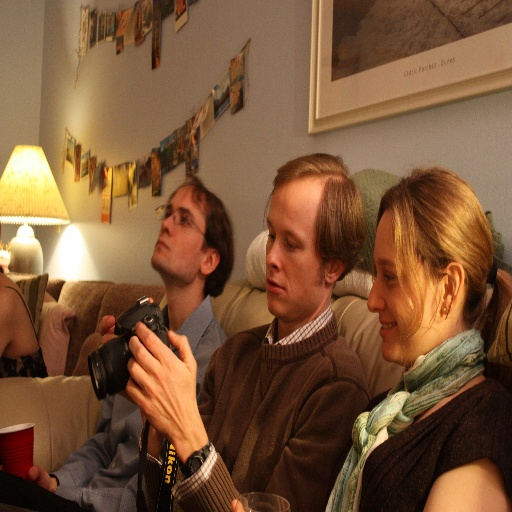hand: (121, 326, 206, 463), (25, 464, 57, 492), (140, 408, 164, 438), (97, 315, 118, 342), (230, 497, 244, 511)
